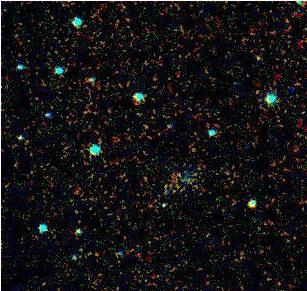star: (239, 43, 269, 73)
